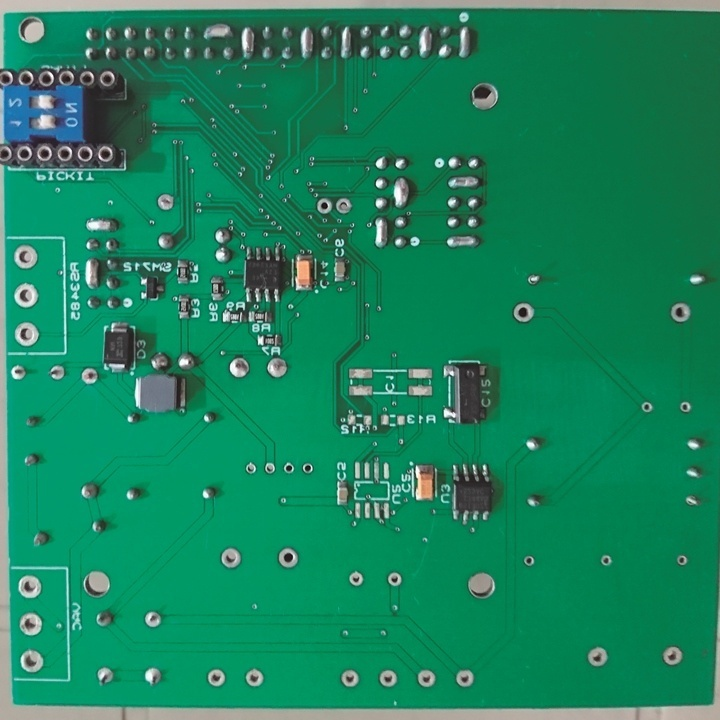F: (10, 242, 44, 272), (13, 282, 42, 312), (16, 646, 45, 675), (16, 574, 44, 603), (13, 323, 44, 349), (264, 354, 291, 382), (19, 611, 44, 638), (226, 356, 253, 380), (276, 546, 301, 570), (661, 644, 684, 670), (219, 545, 241, 572), (669, 301, 693, 325), (587, 642, 606, 669), (511, 301, 534, 323), (155, 193, 177, 215), (95, 664, 116, 686), (378, 667, 398, 690), (453, 667, 473, 689), (339, 667, 359, 689), (243, 667, 263, 689), (10, 363, 30, 385), (416, 668, 436, 689), (79, 366, 99, 387), (205, 666, 225, 685), (143, 665, 161, 686), (47, 363, 66, 382), (386, 571, 402, 591), (684, 494, 701, 512), (347, 569, 364, 587), (315, 198, 333, 214), (144, 611, 160, 629), (334, 198, 350, 215), (526, 272, 541, 290), (281, 460, 296, 477), (639, 400, 653, 418), (676, 552, 689, 571), (244, 460, 258, 477), (264, 460, 277, 478), (302, 460, 314, 479), (599, 552, 612, 569), (678, 400, 692, 415), (523, 552, 535, 569)
P: (84, 216, 119, 235), (83, 257, 101, 293), (446, 174, 481, 192), (298, 23, 314, 61), (446, 234, 481, 251), (374, 215, 390, 252), (417, 23, 432, 62), (240, 24, 255, 62), (393, 177, 410, 210), (202, 21, 231, 40), (338, 23, 352, 60), (459, 24, 471, 61)
